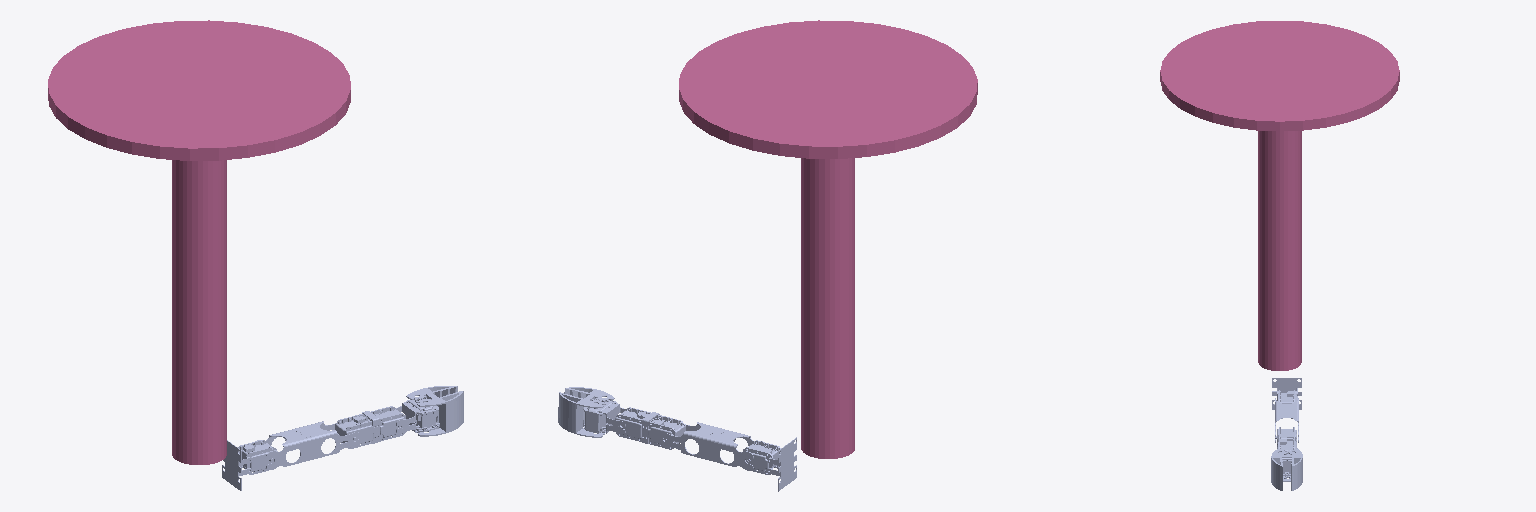
--- What the picture shows (computed from the rendered views, not written in the file) ---
Views: 3 orthographic renders of the robot side by side, from view 1: azimuth 30°, elevation 25°; view 2: azimuth 150°, elevation 25°; view 3: azimuth 270°, elevation 25°.
Model robotino with 16 links and 15 joints (5 revolute, 3 continuous, 7 fixed), rooted at base_link, posed all joints at 0.
Visible links, largest first — view 1: platform_link, L1, L2, base_link_arm, GL, L3; view 2: platform_link, L1, L2, base_link_arm, GR, L3; view 3: platform_link, base_link_arm.
Boxes of the visible links, x1,y1,x2,y2 form: platform_link: (48,20,350,464); L1: (252,421,359,469); L2: (335,406,405,448); base_link_arm: (222,440,277,490); GL: (416,391,463,436); L3: (396,398,439,433); platform_link: (679,20,977,458); L1: (661,422,762,470); L2: (615,407,685,449); base_link_arm: (743,437,796,491); GR: (558,392,605,437); L3: (583,399,625,434); platform_link: (1160,21,1399,370); base_link_arm: (1272,378,1301,409).
Size in the robot's own frame: 0.6652 by 0.44 by 0.6586 metres.
Meshes: 11 distinct files referenced, 6 mesh visuals loaded (6 binary STL); not drawn: 8 (reference not matched to a file when rendering).

robot.urdf — robotino:
<?xml version="1.0" ?>
<!-- =================================================================================== -->
<!-- |    This document was autogenerated by xacro from [local-path]/catkin_ws/src/robotino_descrip/urdf/robotino_arm.xacro | -->
<!-- |    EDITING THIS FILE BY HAND IS NOT RECOMMENDED                                 | -->
<!-- =================================================================================== -->
<robot name="robotino">
    <!-- camera piller-->
    <gazebo reference="camera_piller">
        <sensor name="camera1" type="camera">
            <update_rate>30.0</update_rate>
            <camera name="head">
                <pose>0 0.05 0.5 0 0 0</pose>
                <horizontal_fov>1.3962634</horizontal_fov>
                <image>
                    <width>800</width>
                    <height>800</height>
                    <format>R8G8B8</format>
                </image>
                <clip>
                    <near>0.02</near>
                    <far>300</far>
                </clip>
                <noise>
                    <type>gaussian</type>
                    <!-- Noise is sampled independently per pixel on each frame.
               That pixel's noise value is added to each of its color
               channels, which at that point lie in the range [0,1]. -->
                    <mean>0.0</mean>
                    <stddev>0.007</stddev>
                </noise>
            </camera>
            <plugin filename="libgazebo_ros_camera.so" name="camera_controller">
                <alwaysOn>true</alwaysOn>
                <updateRate>0.0</updateRate>
                <cameraName>robotino/camera_piller</cameraName>
                <imageTopicName>image_raw</imageTopicName>
                <cameraInfoTopicName>camera_info</cameraInfoTopicName>
                <frameName>camera_piller</frameName>
                <hackBaseline>0.07</hackBaseline>
                <distortionK1>0.0</distortionK1>
                <distortionK2>0.0</distortionK2>
                <distortionK3>0.0</distortionK3>
                <distortionT1>0.0</distortionT1>
                <distortionT2>0.0</distortionT2>
            </plugin>
        </sensor>
        <plugin name="gazebo_ros_control">
            <robotNamespace>/</robotNamespace>
        </plugin>
    </gazebo>
    <!-- camera base -->
    <gazebo reference="camera_base">
        <sensor name="camera2" type="camera">
            <update_rate>30.0</update_rate>
            <camera name="head">
                <pose>0 -0.0 0.3 0 0 0</pose>
                <horizontal_fov>1.3962634</horizontal_fov>
                <image>
                    <width>800</width>
                    <height>800</height>
                    <format>R8G8B8</format>
                </image>
                <clip>
                    <near>0.02</near>
                    <far>300</far>
                </clip>
                <noise>
                    <type>gaussian</type>
                    <!-- Noise is sampled independently per pixel on each frame.
               That pixel's noise value is added to each of its color
               channels, which at that point lie in the range [0,1]. -->
                    <mean>0.0</mean>
                    <stddev>0.007</stddev>
                </noise>
            </camera>
            <plugin filename="libgazebo_ros_camera.so" name="camera_controller">
                <alwaysOn>true</alwaysOn>
                <updateRate>0.0</updateRate>
                <cameraName>robotino/camera_base</cameraName>
                <imageTopicName>image_raw</imageTopicName>
                <cameraInfoTopicName>camera_info</cameraInfoTopicName>
                <frameName>camera_base</frameName>
                <hackBaseline>0.07</hackBaseline>
                <distortionK1>0.0</distortionK1>
                <distortionK2>0.0</distortionK2>
                <distortionK3>0.0</distortionK3>
                <distortionT1>0.0</distortionT1>
                <distortionT2>0.0</distortionT2>
            </plugin>
        </sensor>
    </gazebo>
    <!-- LIDAR -->
    <gazebo reference="base_scan">
        <sensor name="libgazebo_ros_laser.so" type="ray">
            <pose>0 0 0 0 0 0</pose>
            <visualize>true</visualize>
            <update_rate>10</update_rate>
            <ray>
                <scan>
                    <horizontal>
                        <samples>720</samples>
                        <resolution>1</resolution>
                        <min_angle>-3.14</min_angle>
                        <max_angle>3.14</max_angle>
                    </horizontal>
                </scan>
                <range>
                    <min>0.12</min>
                    <max>3.5</max>
                    <resolution>0.01</resolution>
                </range>
                <noise>
                    <type>gaussian</type>
                    <mean>0.0</mean>
                    <stddev>0.01</stddev>
                </noise>
            </ray>
            <plugin filename="libgazebo_ros_laser.so" name="gazebo_ros_head_hokuyo_controller">
                <topicName>scan</topicName>
                <frameName>base_scan</frameName>
            </plugin>
        </sensor>
    </gazebo>
    <!-- Size of square 'camera' box -->
    <link name="base_link">
        <inertial>
            <mass value="30" />
            <origin xyz="0 0 0" rpy="0 0 0" />
            <inertia ixx="1.0" ixy="0.0" ixz="0.0" iyy="1.0" iyz="0.0" izz="1.0" />
        </inertial>
        <visual>
            <origin rpy="0 0 1.570795" xyz="0.01 0 0" />
            <geometry>
                <mesh filename="package://robotino_descrip/meshes/parts/robotino_base.dae" scale="0.01 0.01 0.01" />
            </geometry>
        </visual>
        <collision>
            <origin rpy="0 0 0" xyz="0 0 0.025" />
            <geometry>
                <cylinder length="0.05" radius="0.18" />
            </geometry>
        </collision>
    </link>
    <gazebo reference="base_link">
        <material>Gazebo/White</material>
        <turnGravityOff>false</turnGravityOff>
    </gazebo>
    <link name="wheel0_link">
        <inertial>
            <mass value="0.00001" />
            <origin xyz="0 0 0" />
            <inertia ixx="1.0" ixy="0.0" ixz="0.0" iyy="1.0" iyz="0.0" izz="1.0" />
        </inertial>
        <visual>
            <origin rpy="0 0 0" xyz="0 0 0" />
            <geometry>
                <mesh filename="package://robotino_descrip/meshes/parts/robotino_wheel.dae" scale="0.01 0.01 0.01" />
            </geometry>
        </visual>
    </link>
    <gazebo reference="wheel0_link">
        <material>Gazebo/Yellow</material>
        <turnGravityOff>false</turnGravityOff>
    </gazebo>
    <joint name="wheel0_joint" type="continuous">
        <origin rpy="0 0 1.04719666667" xyz="0.065 0.11 0.04" />
        <axis xyz="-1 0 0" />
        <parent link="base_link" />
        <child link="wheel0_link" />
    </joint>
    <transmission name="wheel0_joint_trans">
        <type>transmissio_interface/SimpleTransmission</type>
        <joint name="wheel0_joint" />
        <actuator name="wheel0_motor">
            <hardwareInterface>EffortJointInterface</hardwareInterface>
            <mechanicalReducation>1</mechanicalReducation>
        </actuator>
    </transmission>
    <link name="wheel1_link">
        <inertial>
            <mass value="0.00001" />
            <origin xyz="0 0 0" />
            <inertia ixx="1.0" ixy="0.0" ixz="0.0" iyy="1.0" iyz="0.0" izz="1.0" />
        </inertial>
        <visual>
            <origin rpy="0 0 0" xyz="0 0 0" />
            <geometry>
                <mesh filename="package://robotino_descrip/meshes/parts/robotino_wheel.dae" scale="0.01 0.01 0.01" />
            </geometry>
        </visual>
    </link>
    <gazebo reference="wheel1_link">
        <material>Gazebo/Yellow</material>
        <turnGravityOff>false</turnGravityOff>
    </gazebo>
    <joint name="wheel1_joint" type="continuous">
        <origin rpy="0 0 0" xyz="-0.13 0 0.04" />
        <axis xyz="1 0 0" />
        <parent link="base_link" />
        <child link="wheel1_link" />
    </joint>
    <transmission name="wheel1_joint_trans">
        <type>transmissio_interface/SimpleTransmission</type>
        <joint name="wheel1_joint" />
        <actuator name="wheel1_motor">
            <hardwareInterface>EffortJointInterface</hardwareInterface>
            <mechanicalReducation>1</mechanicalReducation>
        </actuator>
    </transmission>
    <link name="wheel2_link">
        <inertial>
            <mass value="0.00001" />
            <origin xyz="0 0 0" />
            <inertia ixx="1.0" ixy="0.0" ixz="0.0" iyy="1.0" iyz="0.0" izz="1.0" />
        </inertial>
        <visual>
            <origin rpy="0 0 0" xyz="0 0 0" />
            <geometry>
                <mesh filename="package://robotino_descrip/meshes/parts/robotino_wheel.dae" scale="0.01 0.01 0.01" />
            </geometry>
        </visual>
    </link>
    <gazebo reference="wheel2_link">
        <material>Gazebo/Yellow</material>
        <turnGravityOff>false</turnGravityOff>
    </gazebo>
    <joint name="wheel2_joint" type="continuous">
        <origin rpy="0 0 -1.04719666667" xyz="0.065 -0.11 0.04" />
        <axis xyz="-1 0 0" />
        <parent link="base_link" />
        <child link="wheel2_link" />
    </joint>
    <transmission name="wheel2_joint_trans">
        <type>transmissio_interface/SimpleTransmission</type>
        <joint name="wheel2_joint" />
        <actuator name="wheel2_motor">
            <hardwareInterface>EffortJointInterface</hardwareInterface>
            <mechanicalReducation>1</mechanicalReducation>
        </actuator>
    </transmission>
    <link name="command_bridge_link">
        <inertial>
            <mass value="0.00001" />
            <origin xyz="0 0 0" rpy="0 0 0" />
            <inertia ixx="1.0" ixy="0.0" ixz="0.0" iyy="1.0" iyz="0.0" izz="1.0" />
        </inertial>
        <collision>
            <origin rpy="0 0 0" xyz="0 0 0" />
            <geometry>
                <box size="0.25 0.11 0.16" />
            </geometry>
        </collision>
    </link>
    <joint name="command_bridge_joint" type="fixed">
        <origin rpy="0 0 1.570795" xyz="-0.05 0 0.13" />
        <parent link="base_link" />
        <child link="command_bridge_link" />
    </joint>
    <link name="anglebracketusb_link">
        <inertial>
            <mass value="0.00001" />
            <origin xyz="0 0 0" />
            <inertia ixx="1.0" ixy="0.0" ixz="0.0" iyy="1.0" iyz="0.0" izz="1.0" />
        </inertial>
        <visual>
            <origin rpy="0 0 0" xyz="0 0 0" />
            <geometry>
                <mesh filename="package://robotino_descrip/meshes/parts/angle_bracket_usb_hub.dae" scale="0.01 0.01 0.01" />
            </geometry>
        </visual>
    </link>
    <joint name="anglebracketusb_joint" type="fixed">
        <origin rpy="0 0 1.570795" xyz="0.008 0 0.137" />
        <parent link="base_link" />
        <child link="anglebracketusb_link" />
    </joint>
    <gazebo>
        <plugin filename="libgazebo_ros_planar_move.so" name="object_controller">
            <commandTopic>cmd_vel</commandTopic>
            <odometryTopic>odom</odometryTopic>
            <odometryFrame>odom</odometryFrame>
            <odometryRate>20</odometryRate>
            <robotBaseFrame>base_link</robotBaseFrame>
        </plugin>
        <plugin filename="libgazebo_ros_control.so" name="gazebo_ros_control" />
    </gazebo>
    <!-- add platform -->
    <link name="platform_link">
        <inertial>
            <mass value="0.00001" />
            <origin xyz="0 0 0" />
            <inertia ixx="1.0" ixy="0.0" ixz="0.0" iyy="1.0" iyz="0.0" izz="1.0" />
        </inertial>
        <visual>
            <origin xyz="0 0 0.29" />
            <geometry>
                <cylinder length="0.58" radius="0.04" />
            </geometry>
        </visual>
        <visual>
            <origin xyz="0 0 0.58" />
            <geometry>
                <!-- actual length = 0.015 -->
                <cylinder length="0.02" radius="0.22" />
            </geometry>
        </visual>
    </link>
    <joint name="platform_joint" type="fixed">
        <origin rpy="0 0 0" xyz="0.0 0.0 0.13" />
        <parent link="base_link" />
        <child link="platform_link" />
    </joint>
    <link name="base_scan">
        <visual>
            <origin rpy="0 0 0" xyz="0 0 0.0" />
            <geometry>
                <mesh filename="package://robotino_descrip/meshes/sensors/lds.stl" scale="0.001 0.001 0.001" />
            </geometry>
        </visual>
        <collision>
            <origin rpy="0 0 0" xyz="0.015 0 -0.0065" />
            <geometry>
                <cylinder length="0.0315" radius="0.055" />
            </geometry>
        </collision>
        <inertial>
            <mass value="0.114" />
            <origin xyz="0 0 0" rpy="0 0 0" />
            <inertia ixx="0.001" ixy="0.0" ixz="0.0" iyy="0.001" iyz="0.0" izz="0.001" />
        </inertial>
    </link>
    <joint name="scan_joint" type="fixed">
        <parent link="base_link" />
        <child link="base_scan" />
        <origin rpy="0 0 0" xyz="-0.032 0 0.75" />
    </joint>
    <!-- first camera -->
    <!-- Camera -->
    <link name="camera_piller">
        <collision>
            <origin rpy="0 0 1.57" xyz="0 0.05 0.5" />
            <geometry>
                <box size="0.05 0.05 0.05" />
            </geometry>
        </collision>
        <visual>
            <origin rpy="0 0 1.57" xyz="0.05 0.0 0.5" />
            <geometry>
                <!-- <box size="${camera_link} ${camera_link} ${camera_link}"/> -->
                <mesh filename="package://robotino_descrip/meshes/sensors/camera.dae" scale="0.01 0.01 0.01" />
            </geometry>
            <!-- <material name="red"/> -->
        </visual>
        <inertial>
            <mass value="1e-5" />
            <origin rpy="0 0 0" xyz="0 0 0" />
            <inertia ixx="1e-6" ixy="0" ixz="0" iyy="1e-6" iyz="0" izz="1e-6" />
        </inertial>
    </link>
    <joint name="camera_joint" type="fixed">
        <axis xyz="0 1 0" />
        <origin rpy="0 0 0" xyz="0.0 0 0.0" />
        <parent link="base_link" />
        <child link="camera_piller" />
    </joint>
    <!-- second camera  -->
    <!-- Camera -->
    <link name="camera_base">
        <collision>
            <origin rpy="0 0 2" xyz="0.08 -0.05 0" />
            <geometry>
                <box size="0.001 0.001 0.001" />
            </geometry>
        </collision>
        <visual>
            <origin rpy="0 0 2" xyz="0.08 -0.05 0" />
            <geometry>
                <!-- <box size="${camera_link} ${camera_link} ${camera_link}"/> -->
                <mesh filename="package://robotino_descrip/meshes/sensors/camera.dae" scale="0.01 0.01 0.01" />
            </geometry>
            <!-- <material name="red"/> -->
        </visual>
        <inertial>
            <mass value="1e-5" />
            <origin rpy="0 0 0" xyz="0 0 0" />
            <inertia ixx="1e-6" ixy="0" ixz="0" iyy="1e-6" iyz="0" izz="1e-6" />
        </inertial>
    </link>
    <joint name="camera2_joint" type="fixed">
        <axis xyz="0 1 0" />
        <origin rpy="0 0 0" xyz="0.0 0 0.0" />
        <parent link="base_link" />
        <child link="camera_base" />
    </joint>
    <!-- robotic arm embedding -->
    <link name="base_link_arm">
        <inertial>
            <origin rpy="0 0 0" xyz="-0.0370127633091683 0.019070320751848 0.144702744937737" />
            <mass value="0.0485300603816627" />
            <inertia ixx="1.21348391060661E-05" ixy="-1.83170561820002E-07" ixz="2.01283221627451E-09" iyy="1.03176250980936E-05" iyz="8.98306870809956E-08" izz="1.3705089569295E-05" />
        </inertial>
        <visual>
            <origin rpy="0 0 0" xyz="0 0 0" />
            <geometry>
                <mesh filename="package://robotino_arm_v2_udf/meshes/base_link.STL" />
            </geometry>
            <material name="">
                <color rgba="0.792156862745098 0.819607843137255 0.933333333333333 1" />
            </material>
        </visual>
        <collision>
            <origin rpy="0 0 0" xyz="0 0 0" />
            <geometry>
                <mesh filename="package://robotino_arm_v2_udf/meshes/base_link.STL" />
            </geometry>
        </collision>
    </link>
    <!-- <link name="world" /> -->
    <joint name="fix" type="fixed">
        <parent link="base_link" />
        <child link="base_link_arm" />
        <origin rpy="-1.57 0 1.57" xyz="0.12 0.05 -0.05" />
    </joint>
    <link name="L1">
        <inertial>
            <origin rpy="0 0 0" xyz="0.0218613397170321 -0.0643083979647138 -0.0106559317352375" />
            <mass value="0.0123298942666567" />
            <inertia ixx="1.86723406131852E-05" ixy="-3.47242222560863E-10" ixz="1.18024925877695E-09" iyy="6.09881410181813E-06" iyz="-8.12828881398934E-07" izz="2.15012069724987E-05" />
        </inertial>
        <visual>
            <origin rpy="0 0 0" xyz="0 0 0" />
            <geometry>
                <mesh filename="package://robotino_arm_v2_udf/meshes/L1.STL" />
            </geometry>
            <material name="">
                <color rgba="0.792156862745098 0.819607843137255 0.933333333333333 1" />
            </material>
        </visual>
        <collision>
            <origin rpy="0 0 0" xyz="0 0 0" />
            <geometry>
                <mesh filename="package://robotino_arm_v2_udf/meshes/L1.STL" />
            </geometry>
        </collision>
    </link>
    <joint name="J1" type="revolute">
        <origin rpy="1.5325 -1.6571E-05 3.1412" xyz="-0.015177 -0.14501 0.0031767" />
        <parent link="base_link_arm" />
        <child link="L1" />
        <axis xyz="1 0 -0.00043232" />
        <limit effort="10" lower="0" upper="1.8" velocity="0.2" />
    </joint>
    <link name="L2">
        <inertial>
            <origin rpy="0 0 0" xyz="0.0218828627980577 0.002734641651011 0.0384853882508786" />
            <mass value="0.0879186008437833" />
            <inertia ixx="2.08913128379421E-05" ixy="2.66064625040772E-08" ixz="3.62172435526932E-07" iyy="2.46188638028951E-05" iyz="-6.75708643034757E-07" izz="1.5509544710887E-05" />
        </inertial>
        <visual>
            <origin rpy="0 0 0" xyz="0 0 0" />
            <geometry>
                <mesh filename="package://robotino_arm_v2_udf/meshes/L2.STL" />
            </geometry>
            <material name="">
                <color rgba="0.792156862745098 0.819607843137255 0.933333333333333 1" />
            </material>
        </visual>
        <collision>
            <origin rpy="0 0 0" xyz="0 0 0" />
            <geometry>
                <mesh filename="package://robotino_arm_v2_udf/meshes/L2.STL" />
            </geometry>
        </collision>
    </link>
    <joint name="J2" type="revolute">
        <origin rpy="1.7 0.00048802 -0.00042872" xyz="0 -0.13842 -0.0076949" />
        <parent link="L1" />
        <child link="L2" />
        <axis xyz="1 0 -0.00043232" />
        <limit effort="10" lower="-1.8" upper="1.8" velocity="0.2" />
    </joint>
    <link name="L3">
        <inertial>
            <origin rpy="0 0 0" xyz="0.0210324963278343 0.00345434614035189 0.0443927660933133" />
            <mass value="0.0470068003445836" />
            <inertia ixx="8.27072638092313E-06" ixy="1.82174461954528E-07" ixz="-1.31004150631563E-08" iyy="1.15598328470863E-05" iyz="1.42985163489217E-07" izz="1.33891638883011E-05" />
        </inertial>
        <visual>
            <origin rpy="0 0 0" xyz="0 0 0" />
            <geometry>
                <mesh filename="package://robotino_arm_v2_udf/meshes/L3.STL" />
            </geometry>
            <material name="">
                <color rgba="0.792156862745098 0.819607843137255 0.933333333333333 1" />
            </material>
        </visual>
        <collision>
            <origin rpy="0 0 0" xyz="0 0 0" />
            <geometry>
                <mesh filename="package://robotino_arm_v2_udf/meshes/L3.STL" />
            </geometry>
        </collision>
    </link>
    <joint name="J3" type="revolute">
        <origin rpy="0.0042565 0 0" xyz="3.3285E-05 0.0056816 0.076991" />
        <parent link="L2" />
        <child link="L3" />
        <axis xyz="1 0 -0.00043232" />
        <limit effort="10" lower="-1.8" upper="1.8" velocity="0.2" />
    </joint>
    <link name="GR">
        <inertial>
            <origin rpy="0 0 0" xyz="-0.00443543982926508 -4.33266183444692E-05 -0.0353860660374369" />
            <mass value="0.0182294853598354" />
            <inertia ixx="1.0394691303712E-05" ixy="4.83375753942016E-10" ixz="9.97321914417416E-08" iyy="6.1120326767523E-06" iyz="7.72174800352589E-10" izz="5.70322869333795E-06" />
        </inertial>
        <visual>
            <origin rpy="0 0 0" xyz="0 0 0" />
            <geometry>
                <mesh filename="package://robotino_arm_v2_udf/meshes/GR.STL" />
            </geometry>
            <material name="">
                <color rgba="0.792156862745098 0.819607843137255 0.933333333333333 1" />
            </material>
        </visual>
        <collision>
            <origin rpy="0 0 0" xyz="0 0 0" />
            <geometry>
                <mesh filename="package://robotino_arm_v2_udf/meshes/GR.STL" />
            </geometry>
        </collision>
    </link>
    <joint name="J4" type="revolute">
        <origin rpy="3.0636 0.029147 -0.0022426" xyz="0.0094213 0.0036281 0.046465" />
        <parent link="L3" />
        <child link="GR" />
        <axis xyz="0 1 0" />
        <limit effort="10" lower="-1.8" upper="1.8" velocity="0.2" />
    </joint>
    <link name="GL">
        <inertial>
            <origin rpy="0 0 0" xyz="-0.00437064923464174 4.60766456037431E-05 -0.0358117241638067" />
            <mass value="0.0180904804143949" />
            <inertia ixx="1.04915012930938E-05" ixy="-9.96819798756622E-10" ixz="1.62170559104411E-07" iyy="6.34402248985625E-06" iyz="-1.9482740956521E-09" izz="5.68223727875759E-06" />
        </inertial>
        <visual>
            <origin rpy="0 0 0" xyz="0 0 0" />
            <geometry>
                <mesh filename="package://robotino_arm_v2_udf/meshes/GL.STL" />
            </geometry>
            <material name="">
                <color rgba="0.792156862745098 0.819607843137255 0.933333333333333 1" />
            </material>
        </visual>
        <collision>
            <origin rpy="0 0 0" xyz="0 0 0" />
            <geometry>
                <mesh filename="package://robotino_arm_v2_udf/meshes/GL.STL" />
            </geometry>
        </collision>
    </link>
    <joint name="J5" type="revolute">
        <origin rpy="-3.0636 0.040018 -3.1384" xyz="0.03407 0.0036281 0.046454" />
        <parent link="L3" />
        <child link="GL" />
        <axis xyz="0 1 0" />
        <limit effort="10" lower="-1.8" upper="1.8" velocity="0.2" />
        <mimic joint="J4" multiplier="1" offset="0" />
    </joint>
    <transmission name="trans_J1">
        <type>transmission_interface/SimpleTransmission</type>
        <joint name="J1">
            <hardwareInterface>hardware_interface/PositionJointInterface</hardwareInterface>
        </joint>
        <actuator name="J1_motor">
            <hardwareInterface>hardware_interface/PositionJointInterface</hardwareInterface>
            <mechanicalReduction>1</mechanicalReduction>
        </actuator>
    </transmission>
    <transmission name="trans_J2">
        <type>transmission_interface/SimpleTransmission</type>
        <joint name="J2">
            <hardwareInterface>hardware_interface/PositionJointInterface</hardwareInterface>
        </joint>
        <actuator name="J2_motor">
            <hardwareInterface>hardware_interface/PositionJointInterface</hardwareInterface>
            <mechanicalReduction>1</mechanicalReduction>
        </actuator>
    </transmission>
    <transmission name="trans_J3">
        <type>transmission_interface/SimpleTransmission</type>
        <joint name="J3">
            <hardwareInterface>hardware_interface/PositionJointInterface</hardwareInterface>
        </joint>
        <actuator name="J3_motor">
            <hardwareInterface>hardware_interface/PositionJointInterface</hardwareInterface>
            <mechanicalReduction>1</mechanicalReduction>
        </actuator>
    </transmission>
    <transmission name="trans_J4">
        <type>transmission_interface/SimpleTransmission</type>
        <joint name="J4">
            <hardwareInterface>hardware_interface/PositionJointInterface</hardwareInterface>
        </joint>
        <actuator name="J4_motor">
            <hardwareInterface>hardware_interface/PositionJointInterface</hardwareInterface>
            <mechanicalReduction>1</mechanicalReduction>
        </actuator>
    </transmission>
    <transmission name="trans_J5">
        <type>transmission_interface/SimpleTransmission</type>
        <joint name="J5">
            <hardwareInterface>hardware_interface/EffortJointInterface</hardwareInterface>
        </joint>
        <actuator name="J5_motor">
            <hardwareInterface>hardware_interface/EffortJointInterface</hardwareInterface>
            <mechanicalReduction>1</mechanicalReduction>
        </actuator>
    </transmission>
    <!-- <gazebo>
        <plugin name="gazebo_ros_control" filename="libgazebo_ros_control.so">
            <robotNamespace>/</robotNamespace>
        </plugin>
    </gazebo> -->
    <transmission name="trans_wheel0_joint">
        <type>transmission_interface/SimpleTransmission</type>
        <joint name="wheel0_joint">
            <hardwareInterface>hardware_interface/EffortJointInterface</hardwareInterface>
        </joint>
        <actuator name="wheel0_joint_motor">
            <hardwareInterface>hardware_interface/EffortJointInterface</hardwareInterface>
            <mechanicalReduction>1</mechanicalReduction>
        </actuator>
    </transmission>
    <transmission name="trans_wheel1_joint">
        <type>transmission_interface/SimpleTransmission</type>
        <joint name="wheel1_joint">
            <hardwareInterface>hardware_interface/EffortJointInterface</hardwareInterface>
        </joint>
        <actuator name="wheel1_joint_motor">
            <hardwareInterface>hardware_interface/EffortJointInterface</hardwareInterface>
            <mechanicalReduction>1</mechanicalReduction>
        </actuator>
    </transmission>
    <transmission name="trans_wheel2_joint">
        <type>transmission_interface/SimpleTransmission</type>
        <joint name="wheel2_joint">
            <hardwareInterface>hardware_interface/EffortJointInterface</hardwareInterface>
        </joint>
        <actuator name="wheel2_joint_motor">
            <hardwareInterface>hardware_interface/EffortJointInterface</hardwareInterface>
            <mechanicalReduction>1</mechanicalReduction>
        </actuator>
    </transmission>
</robot>
